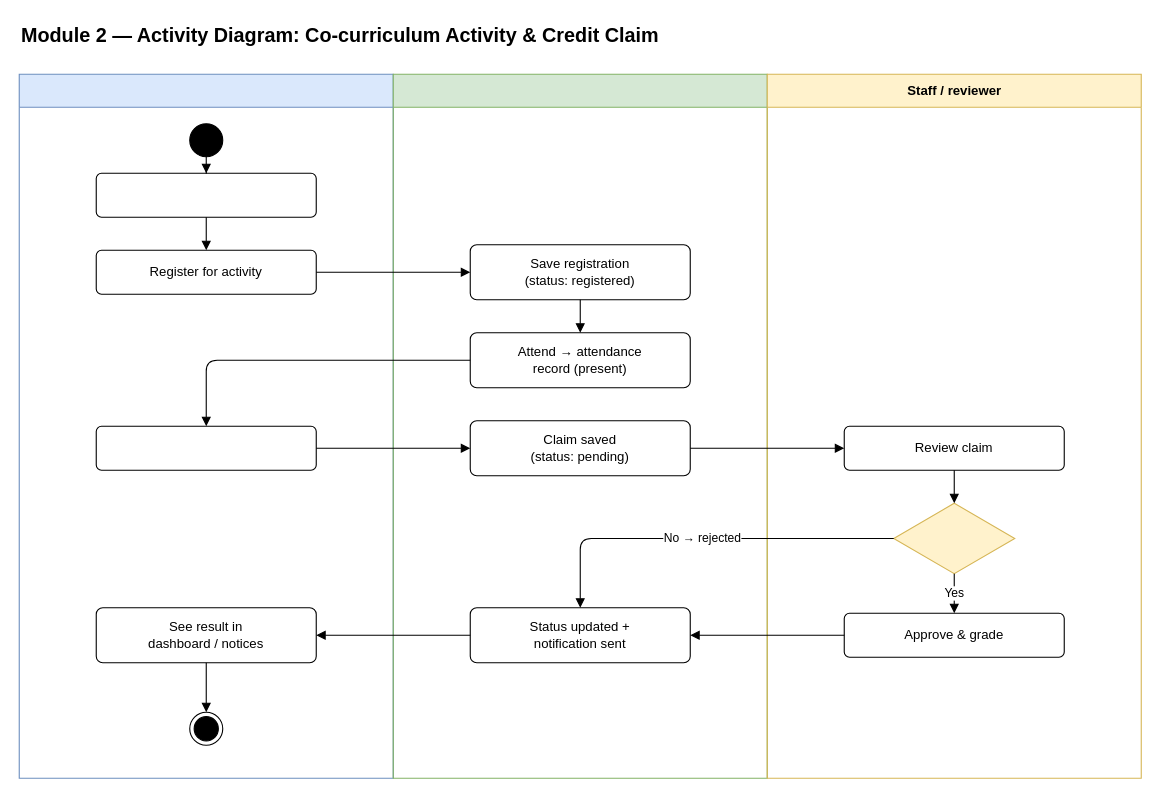
The diagram is 1161 pixels wide and 798 high, and some of its shapes have lost their labels. Here are the shapes that lost their labels. From the top down, the box of each, then its label:
(95, 172, 316, 217): Browse activities
(18, 73, 393, 778): Student
(392, 73, 767, 778): System (Firestore)
(95, 425, 316, 470): Submit credit claim
(893, 502, 1015, 574): Valid?
